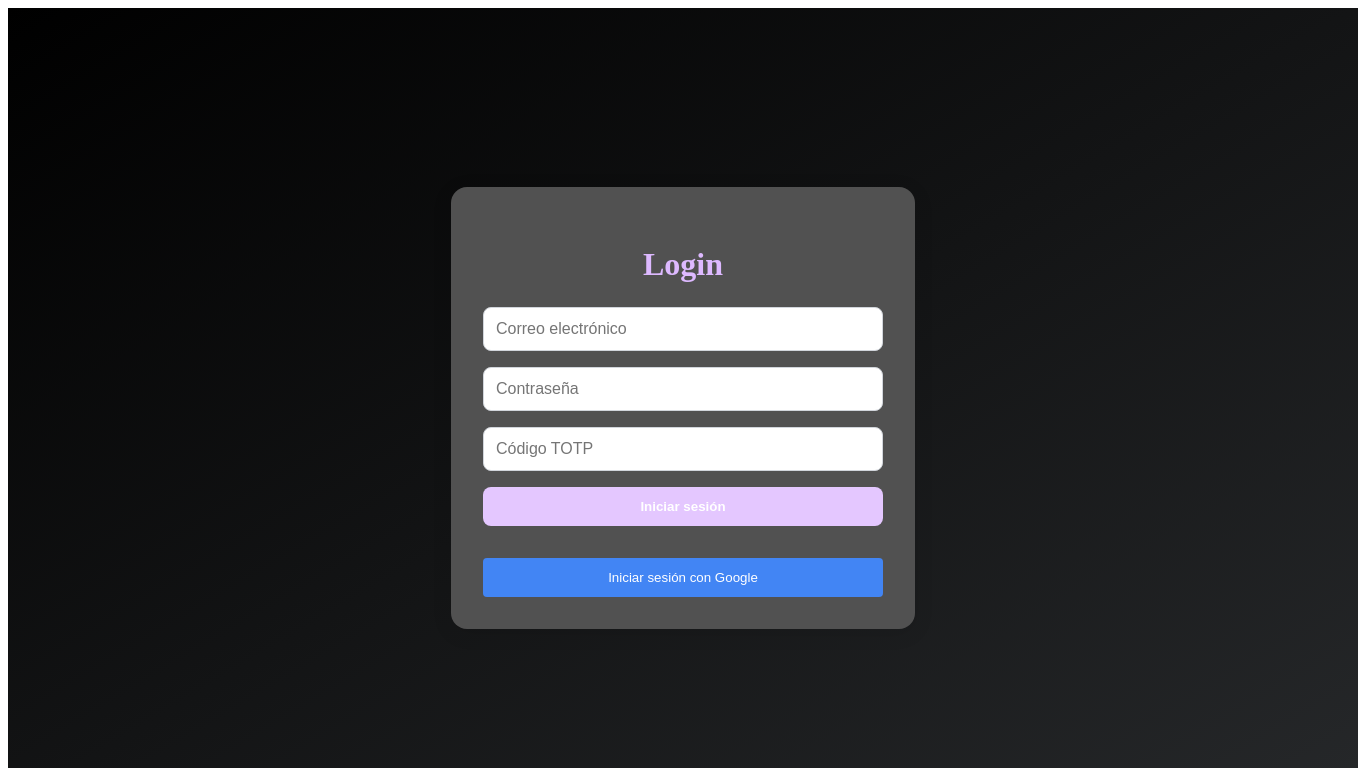
it: Login › should show error when fields are empty
Click the button "Iniciar sesión".
click(683, 506)  # box [483,487,883,526]
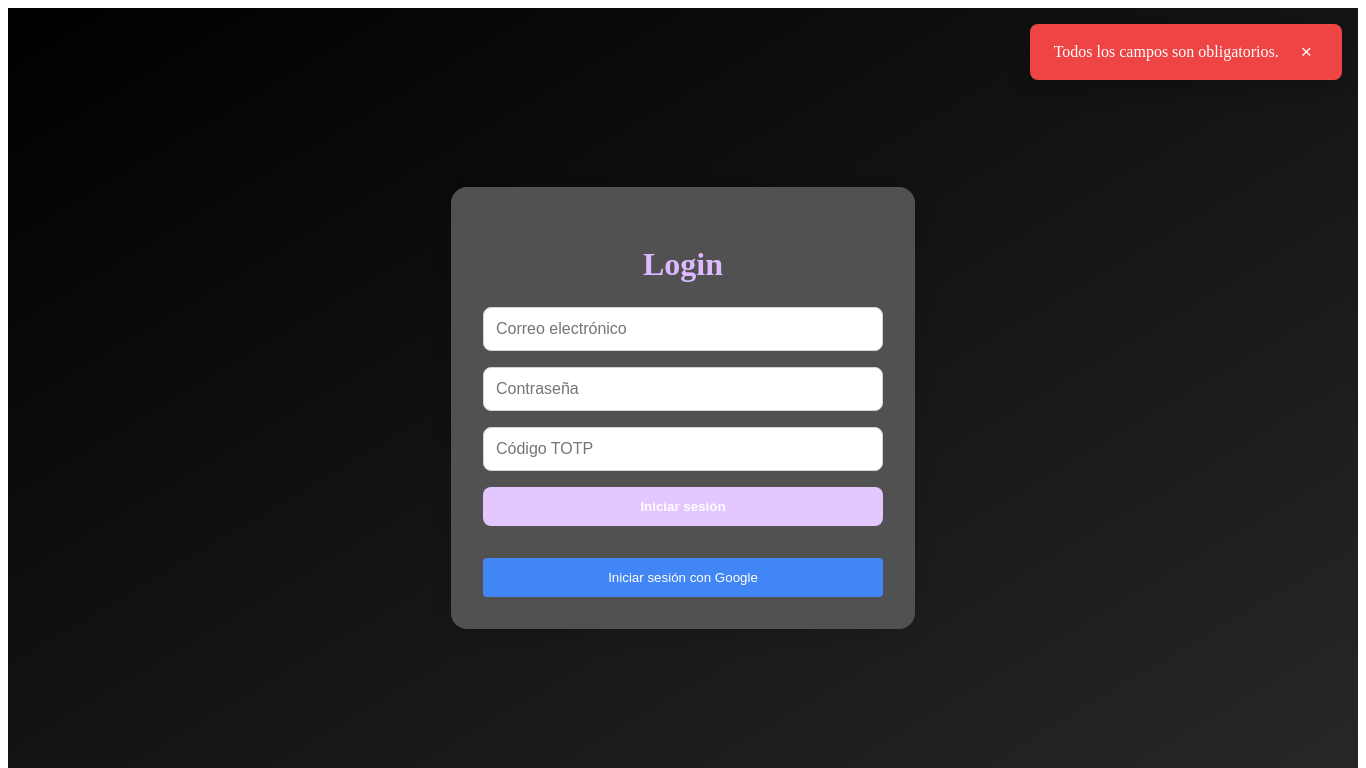
Now the text "Todos los campos son obligatorios." is shown, box [1054,43,1279,61]
